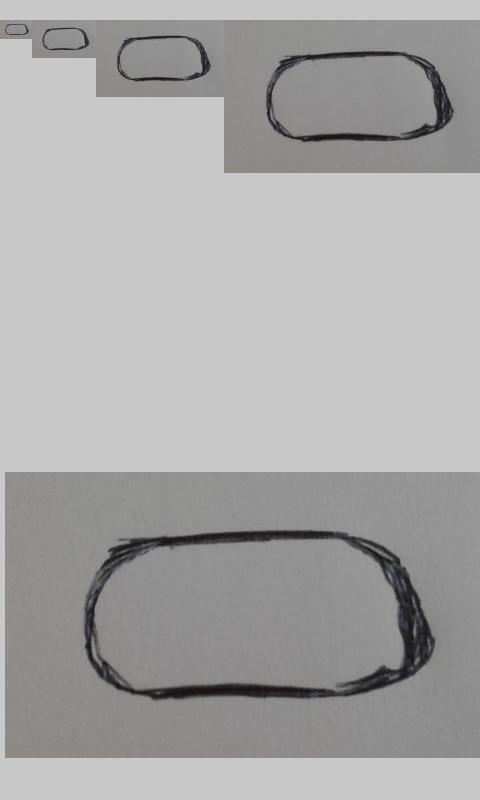chip: (85, 528, 438, 700), (265, 51, 456, 143), (117, 35, 211, 82), (42, 27, 90, 51), (4, 23, 29, 36)
